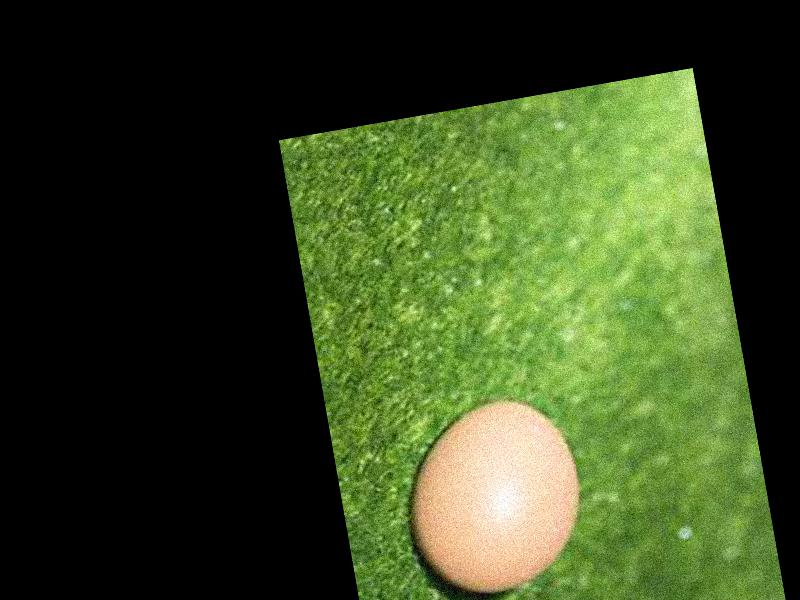Eggs: (392, 388, 592, 600)
